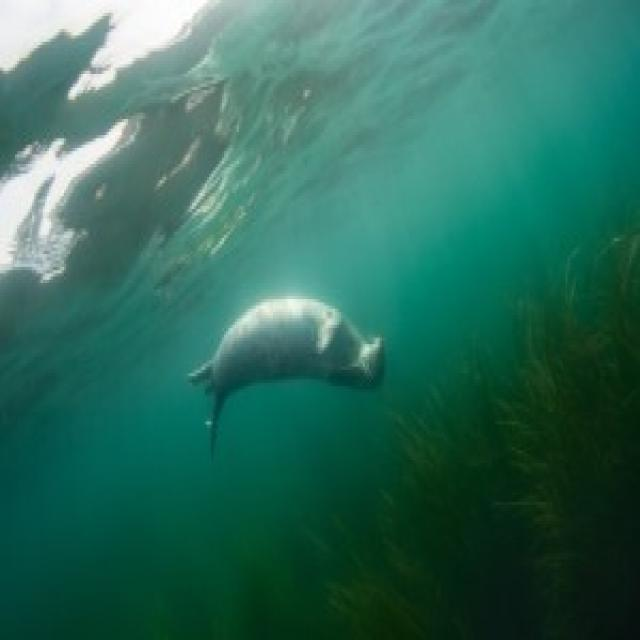Seal: (165, 290, 391, 406)
